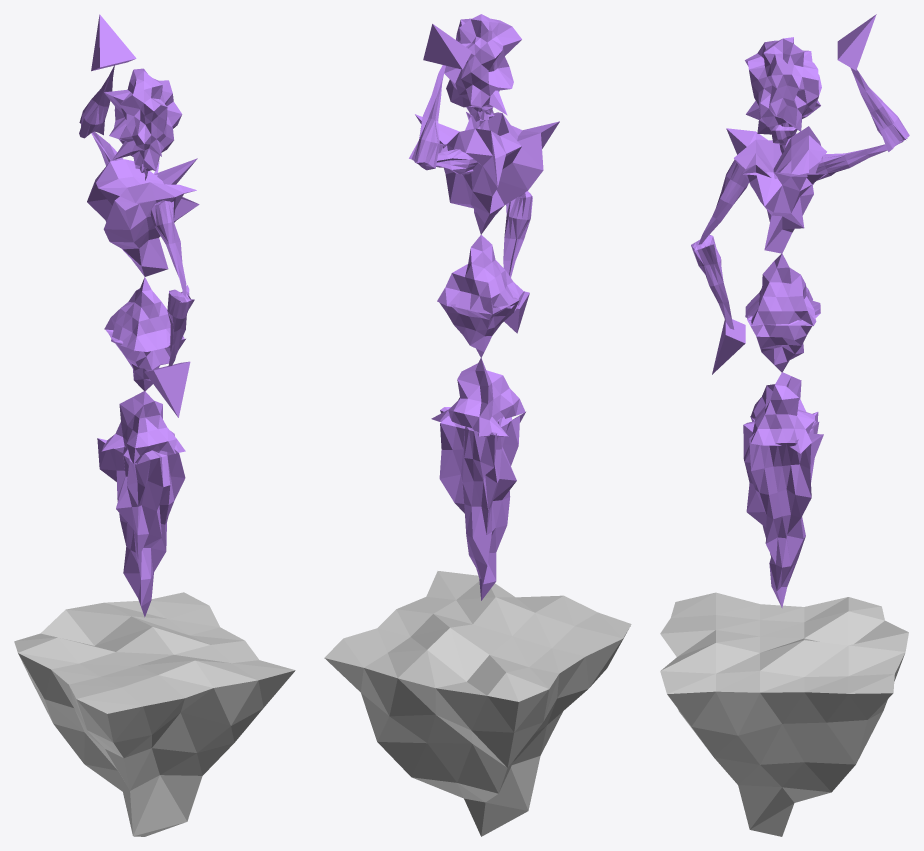
File: figur_ohnepartikel.fbx
3 renders of one model, left to right at view 1: azimuth 30°, elevation 25°; view 2: azimuth 150°, elevation 25°; view 3: azimuth 270°, elevation 25°, orthographic. The views are drawn at different scales.
Visible parts, largest first — view 1: Pyramide, untersch, oberkörper, Kugel, obersch, hüfte, oberarm2, hand1, hand2, hüfte2, unterarm2, unterarm1; view 2: Pyramide, untersch, oberkörper, Kugel, obersch, hüfte, hüfte2, unterarm1, unterarm2, hand1, oberarm1; view 3: Pyramide, untersch, oberkörper, Kugel, obersch, hüfte, hüfte2, unterarm1, unterarm2, oberarm2, oberarm1, hand1 (+1 smaller).
Boxes of the visible parts, left/top/right/bottom form: Pyramide: left=14, top=592, right=295, bottom=836; untersch: left=97, top=431, right=185, bottom=617; oberkörper: left=87, top=158, right=199, bottom=276; Kugel: left=104, top=68, right=182, bottom=170; obersch: left=101, top=391, right=185, bottom=463; hüfte: left=104, top=277, right=184, bottom=351; oberarm2: left=150, top=200, right=186, bottom=296; hand1: left=91, top=14, right=136, bottom=71; hand2: left=144, top=361, right=190, bottom=417; hüfte2: left=106, top=329, right=185, bottom=391; unterarm2: left=167, top=285, right=194, bottom=366; unterarm1: left=79, top=65, right=114, bottom=138; Pyramide: left=324, top=571, right=631, bottom=836; untersch: left=439, top=407, right=525, bottom=600; oberkörper: left=415, top=112, right=559, bottom=234; Kugel: left=444, top=14, right=521, bottom=115; obersch: left=431, top=358, right=525, bottom=436; hüfte: left=437, top=235, right=523, bottom=314; hüfte2: left=439, top=291, right=524, bottom=357; unterarm1: left=409, top=65, right=445, bottom=170; unterarm2: left=503, top=191, right=532, bottom=277; hand1: left=423, top=24, right=471, bottom=69; oberarm1: left=416, top=149, right=477, bottom=174; Pyramide: left=660, top=592, right=908, bottom=836; untersch: left=743, top=412, right=823, bottom=608; oberkörper: left=726, top=126, right=826, bottom=253; Kugel: left=745, top=37, right=821, bottom=134; obersch: left=750, top=372, right=815, bottom=453; hüfte: left=745, top=253, right=816, bottom=325; hüfte2: left=747, top=300, right=820, bottom=372; unterarm1: left=850, top=67, right=909, bottom=151; unterarm2: left=691, top=234, right=734, bottom=329; oberarm2: left=698, top=160, right=749, bottom=244; oberarm1: left=816, top=138, right=907, bottom=180; hand1: left=837, top=14, right=876, bottom=70.
Bounding box in the file's own units: 214 × 822 × 226.
